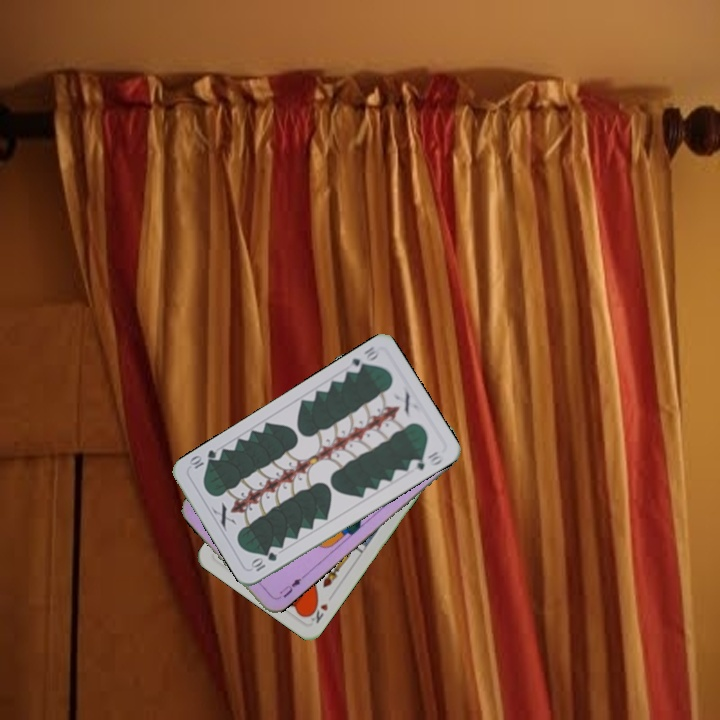EU: (273, 572, 307, 602)
G10: (347, 342, 383, 376), (247, 548, 280, 574)
HK: (303, 597, 330, 626)
